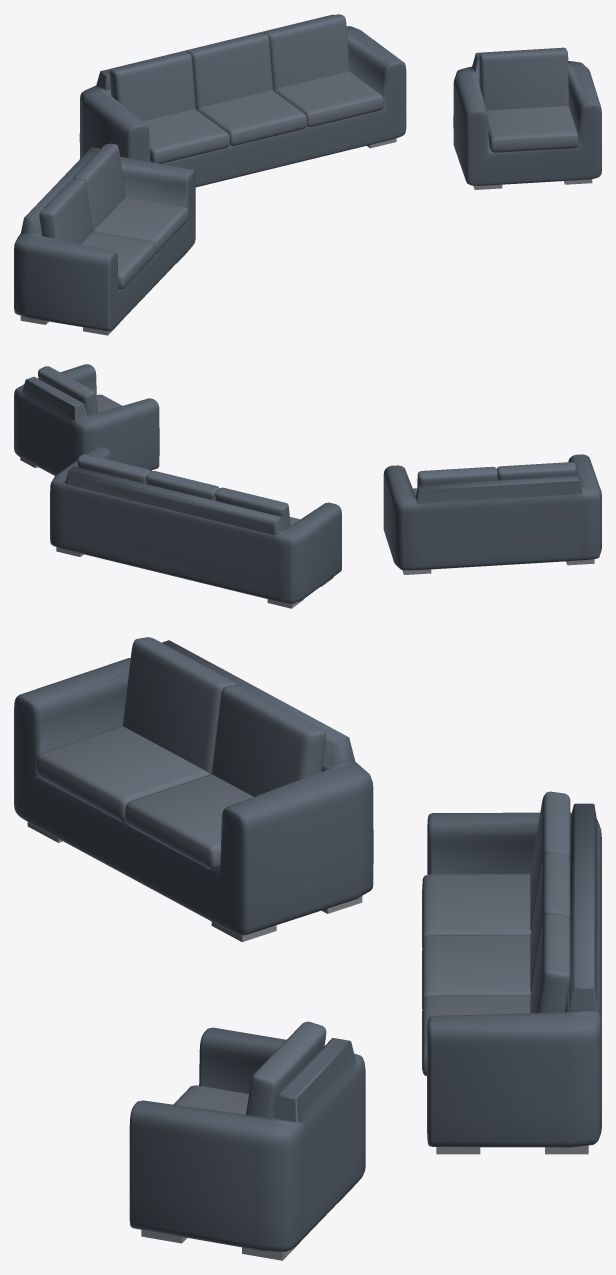
File: office.fbx
3 renders of one model, top to bottom at view 1: azimuth 30°, elevation 25°; view 2: azimuth 150°, elevation 25°; view 3: azimuth 270°, elevation 25°, orthographic. The views are drawn at different scales.
Visible parts, largest first — view 1: sofa, sofa.001, sofa.002; view 2: sofa, sofa.001, sofa.002; view 3: sofa.001, sofa, sofa.002.
Boxes of the visible parts, x1=… form: sofa: x1=79, y1=14, x2=406, y2=187; sofa.001: x1=14, y1=143, x2=195, y2=335; sofa.002: x1=453, y1=47, x2=601, y2=189; sofa: x1=50, y1=446, x2=341, y2=608; sofa.001: x1=383, y1=454, x2=601, y2=574; sofa.002: x1=14, y1=364, x2=159, y2=475; sofa.001: x1=14, y1=637, x2=373, y2=942; sofa: x1=422, y1=791, x2=601, y2=1154; sofa.002: x1=129, y1=1021, x2=365, y2=1260.
Bounding box in the file's own units: 1437 × 234 × 738.
